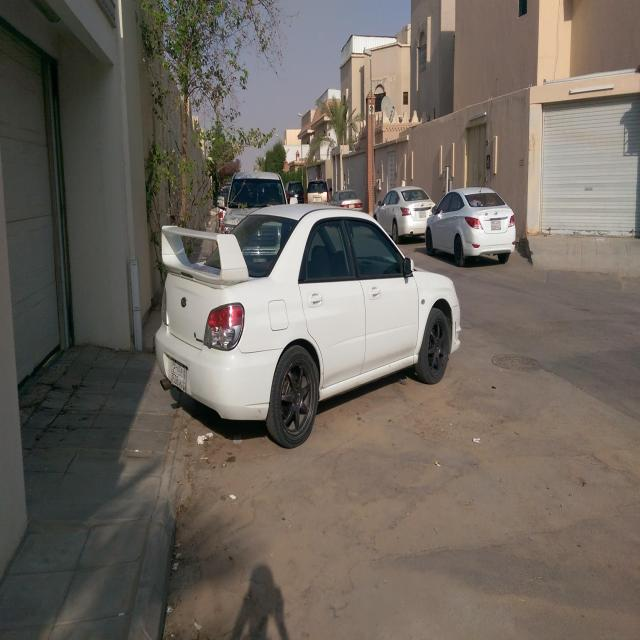license_plate: (170, 357, 186, 393), (490, 220, 501, 230), (418, 210, 426, 218)
